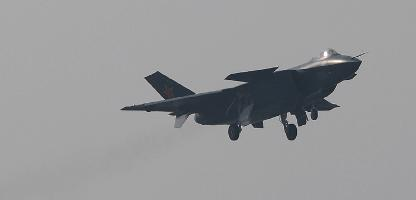F4: (119, 48, 368, 139)
